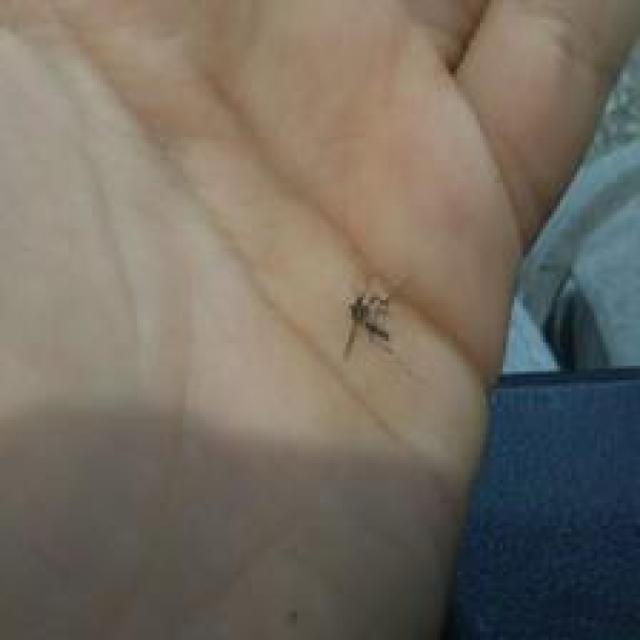Aedes albopictus: (340, 289, 394, 360)
